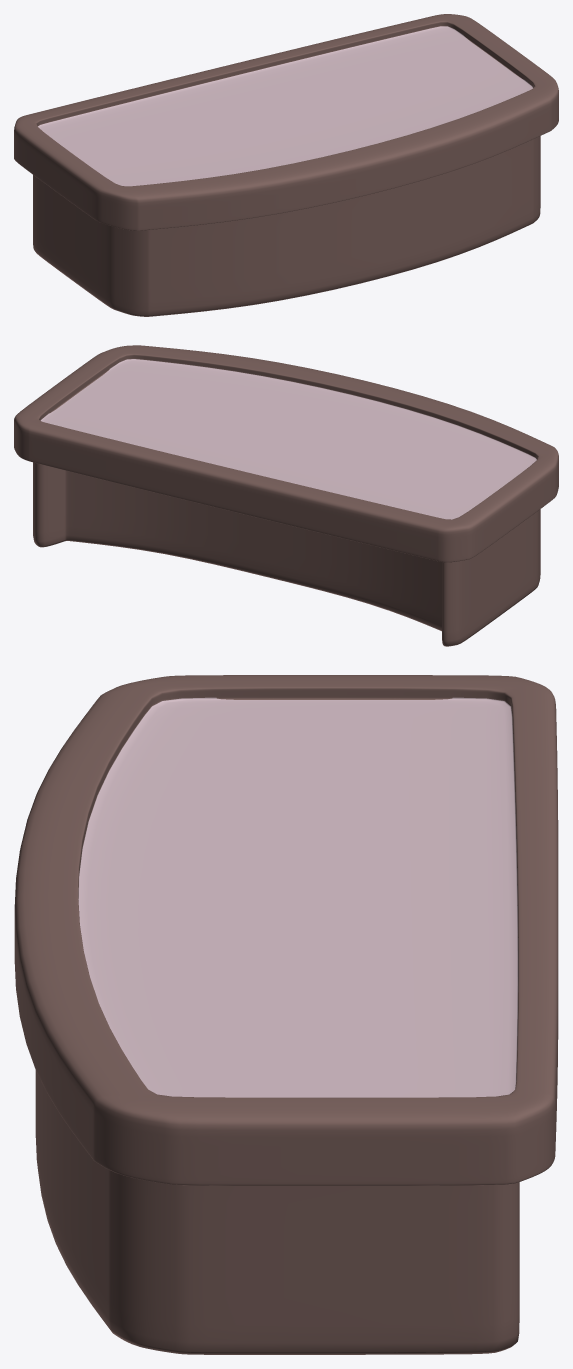
File: Pupitre_profesor_aula.fbx
The picture shows the model from 3 angles, top to bottom: view 1: azimuth 30°, elevation 25°; view 2: azimuth 150°, elevation 25°; view 3: azimuth 270°, elevation 25°; orthographic projection. The views are drawn at different scales.
Visible parts, largest first — view 1: Cube.006; view 2: Cube.006; view 3: Cube.006.
Boxes of the visible parts, box(x1,y1,x2,y2) form: Cube.006: box(14, 14, 558, 316); Cube.006: box(14, 345, 558, 646); Cube.006: box(14, 675, 558, 1354).
Bounding box in the file's own units: 324 × 85.66 × 166.
